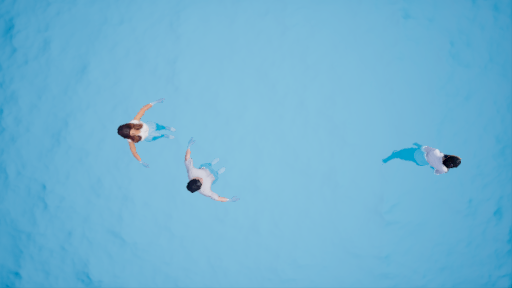person: (115, 89, 177, 171), (181, 136, 242, 207), (384, 135, 467, 177)
